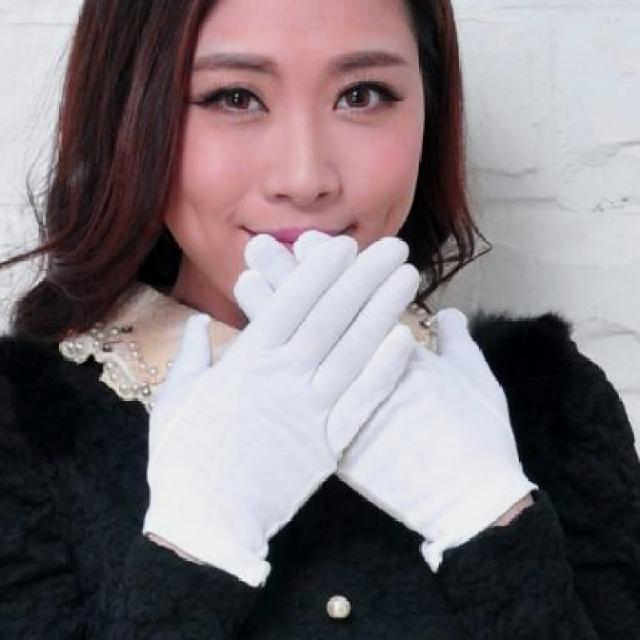face_nomask: (156, 3, 438, 286)
hand_glove: (225, 230, 524, 524), (146, 235, 420, 537)
head_nohelmet: (70, 0, 452, 65)
